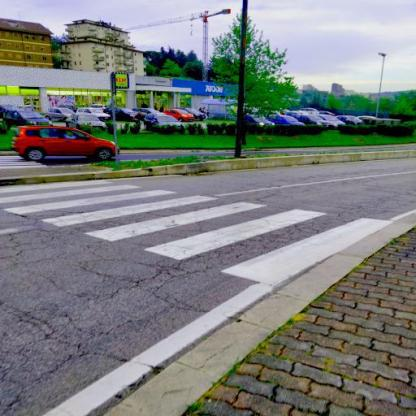crosswalk: (76, 193, 336, 270)
